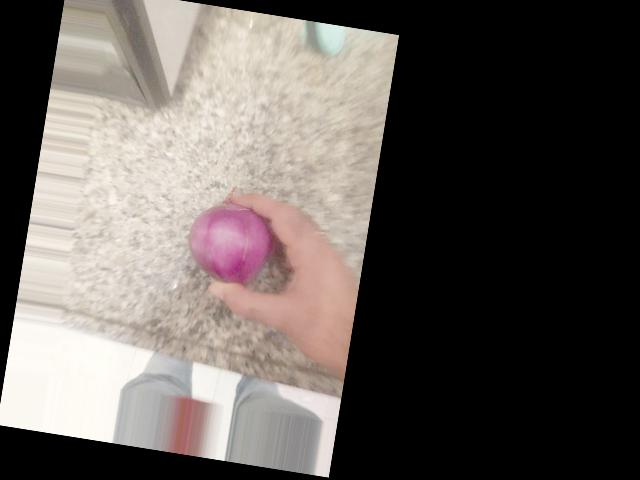onion: (186, 201, 280, 298)
